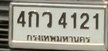num4: (15, 10, 26, 28)
txt01: (27, 10, 40, 29)
txt32: (40, 11, 53, 28)
